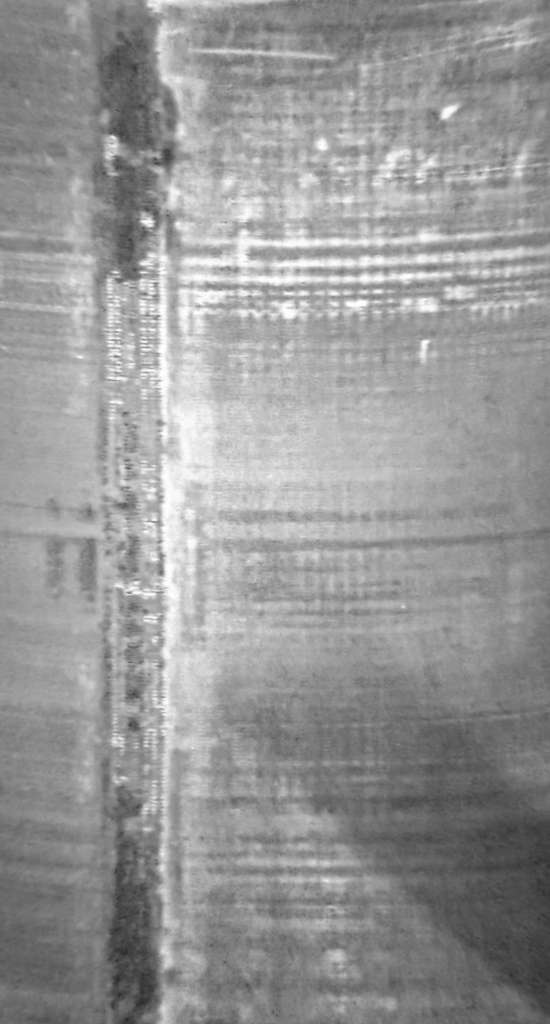splice: (84, 1, 174, 1024)
